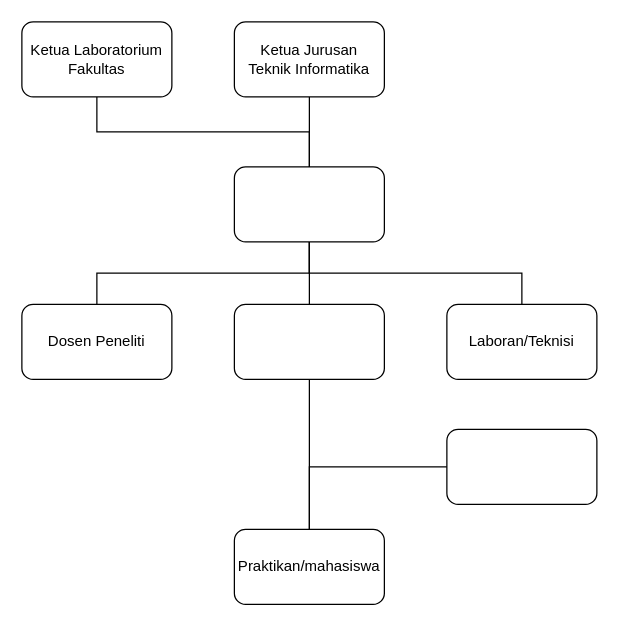
Image size: 619x626. Some labels were removed from this diagram. Each missing label, with the centre of its shape:
"Asisten Lab" goes at point (521, 466).
"Dosen Pengampu Mata Kuliah Bermuatan Praktikum" goes at point (308, 341).
"Koordinator Lab Jurusan" goes at point (308, 204).
